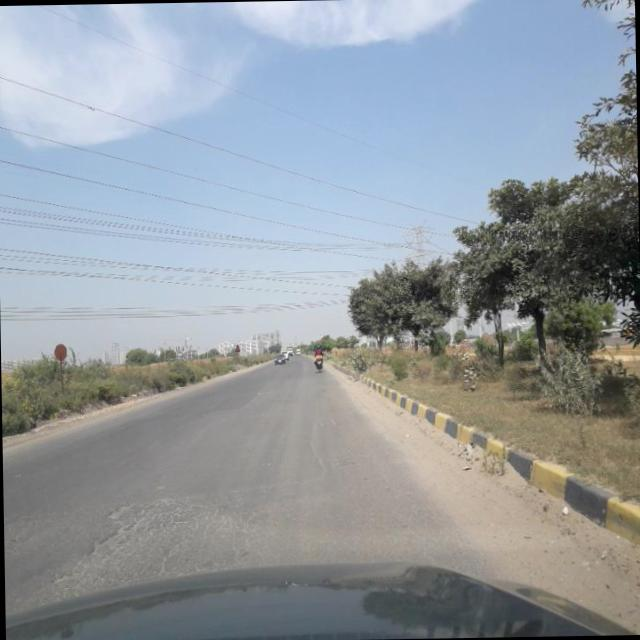crack: (38, 486, 250, 576)
